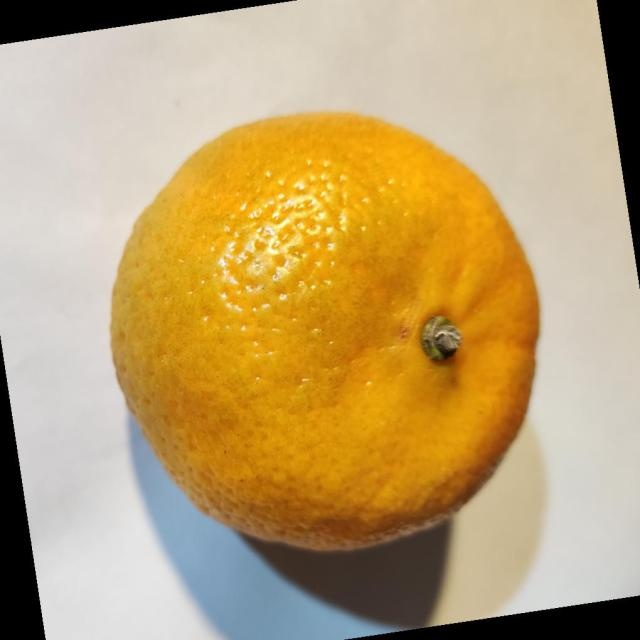agrume: (108, 109, 541, 553)
